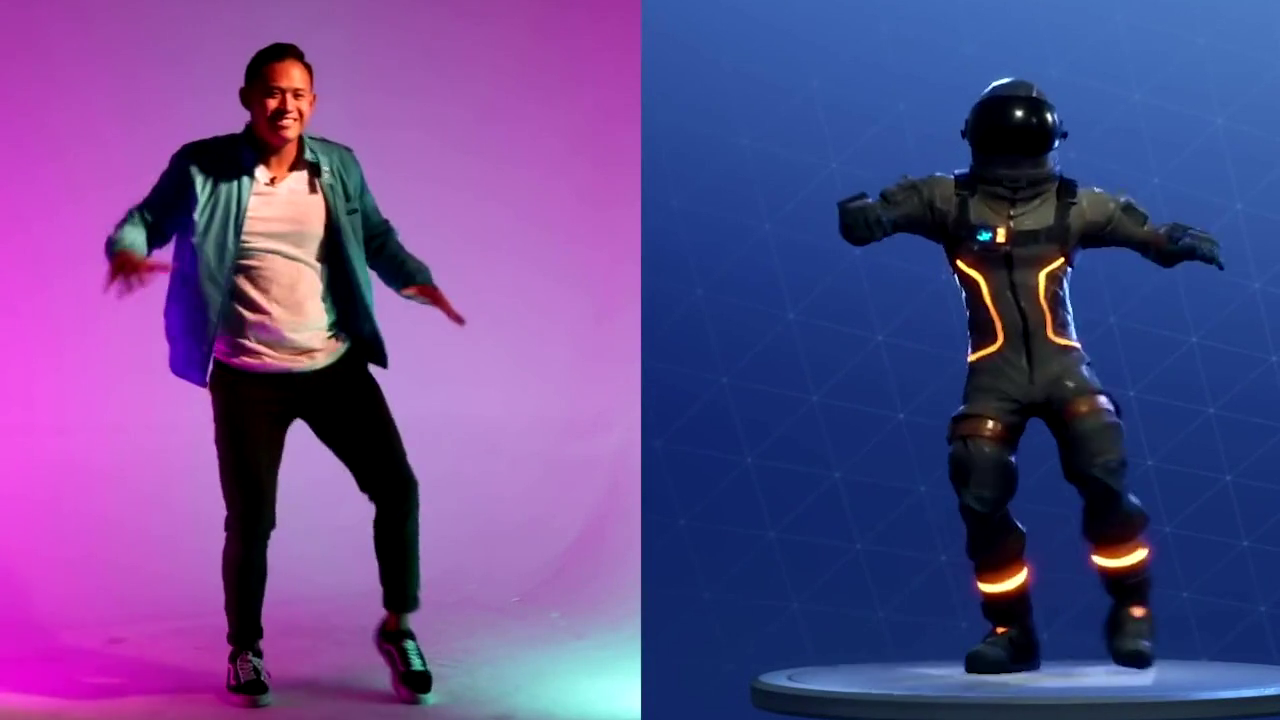Head: (236, 32, 326, 166)
Hip: (199, 338, 423, 452)
LeftAnkle: (343, 589, 470, 704)
LeftKnee: (337, 449, 440, 552)
LeftShoulder: (303, 129, 370, 211)
LeftWrist: (384, 245, 474, 344)
RightAnkle: (160, 608, 287, 715)
RightKnee: (202, 481, 305, 563)
RightShoulder: (147, 130, 236, 219)
RightWrist: (88, 242, 186, 314)
Torso: (192, 148, 383, 371)
